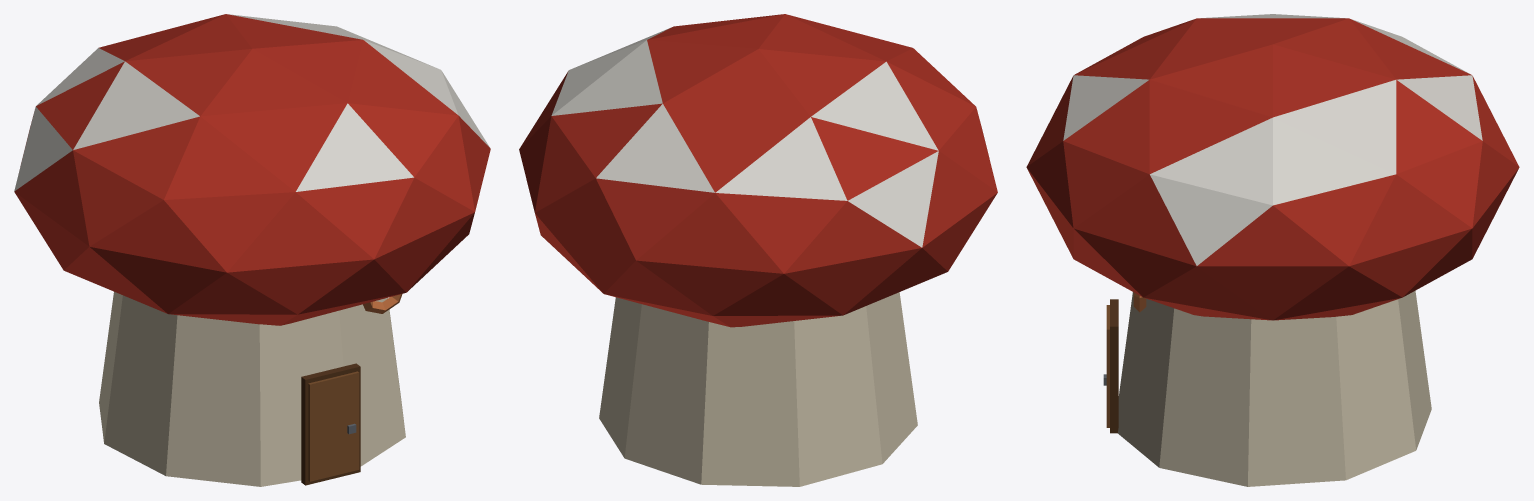
The model's file is gnome_house_a.glb.
The picture shows the model from 3 angles, left to right: view 1: azimuth 30°, elevation 25°; view 2: azimuth 150°, elevation 25°; view 3: azimuth 270°, elevation 25°; orthographic projection.
Visible parts, largest first — view 1: gnome_house_a; view 2: gnome_house_a; view 3: gnome_house_a.
Boxes of the visible parts, bbox=[...] form: gnome_house_a: bbox=[14, 14, 490, 486]; gnome_house_a: bbox=[519, 14, 997, 486]; gnome_house_a: bbox=[1026, 14, 1519, 486].
Size of the model in its own units: 2.19 by 1.93 by 2.3.
